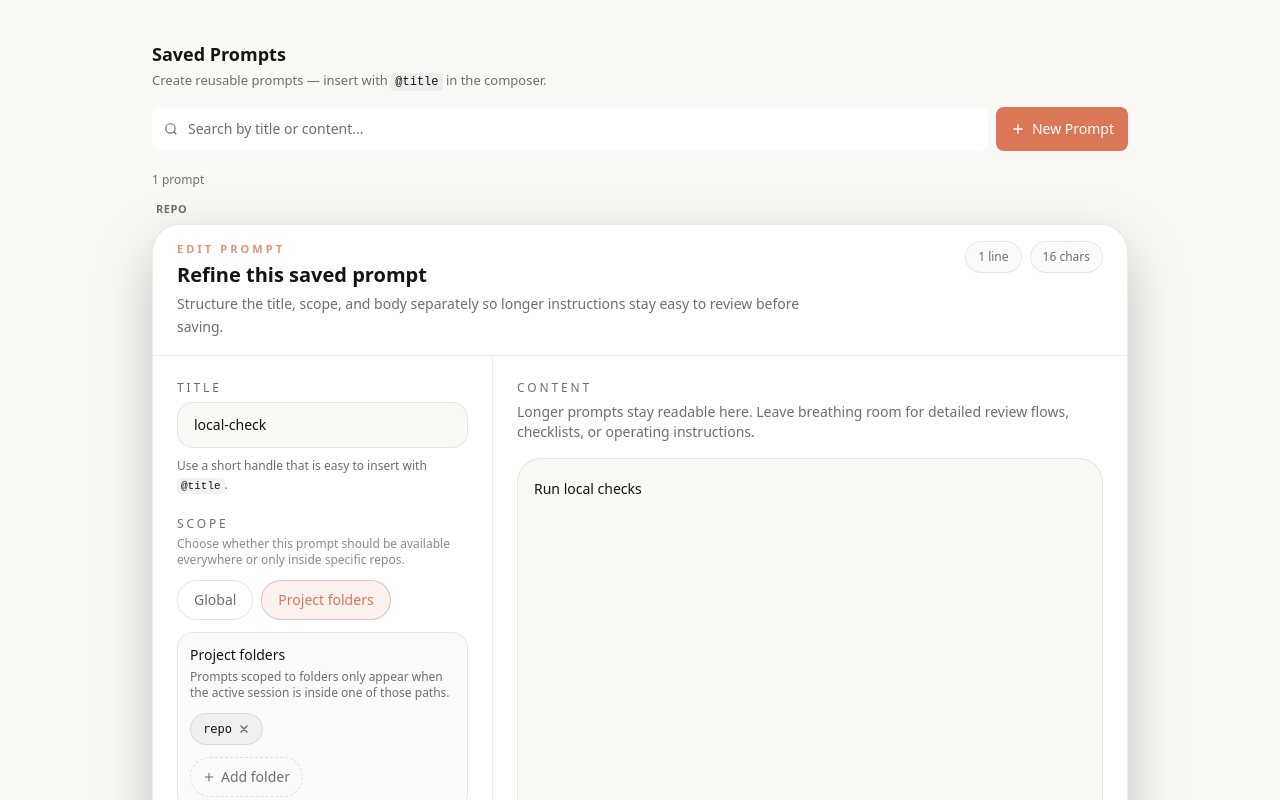
Test case: PromptsPage › shows validation feedback while editing when project scope has no folders
The width and height of the screenshot is (1280, 800).
Earlier steps of the test are not shown.
What coordinates should you click on to do the following:
click the button named "Remove folder /repo"
I would click on:
 (244, 729)
Its box is [238,723,250,735].
(page scrolled)
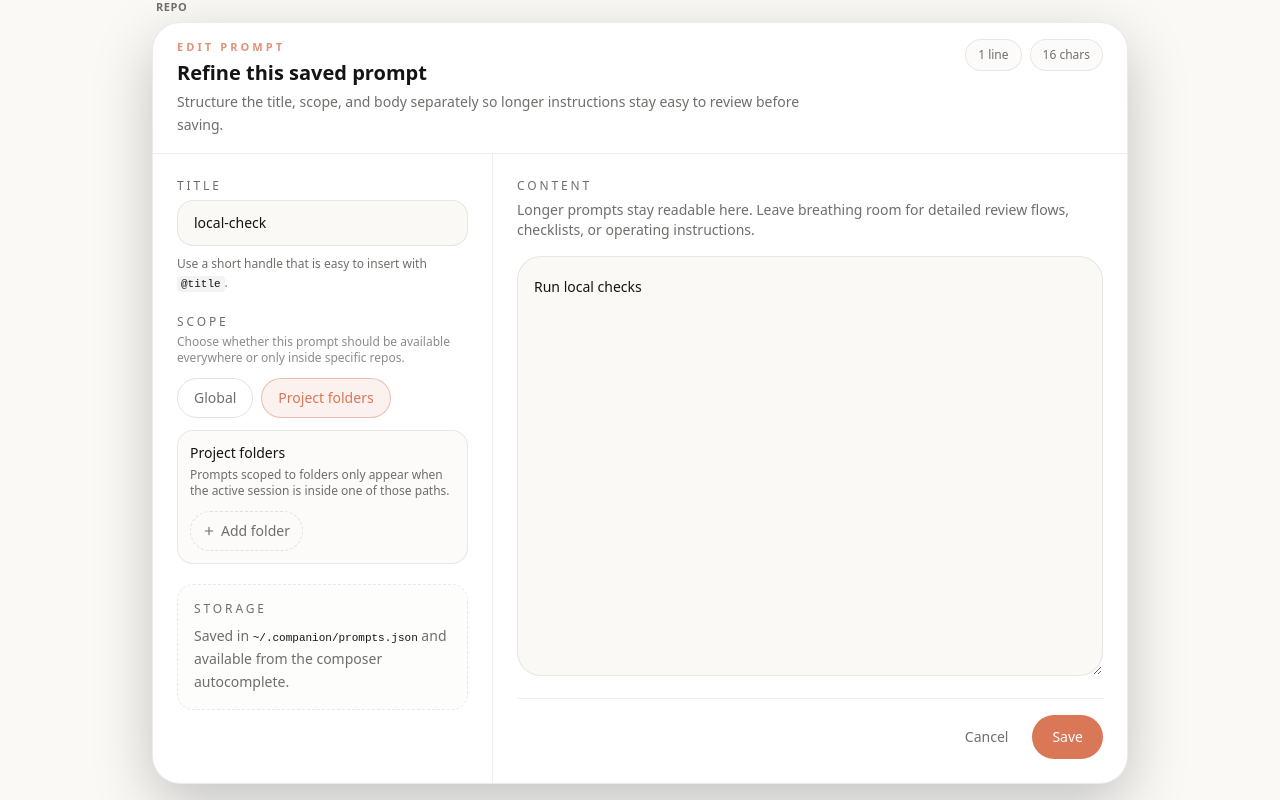
What coordinates should you click on to do the following:
click the button "Save"
I would click on:
 (1068, 737)
Its box is [1032,715,1103,759].
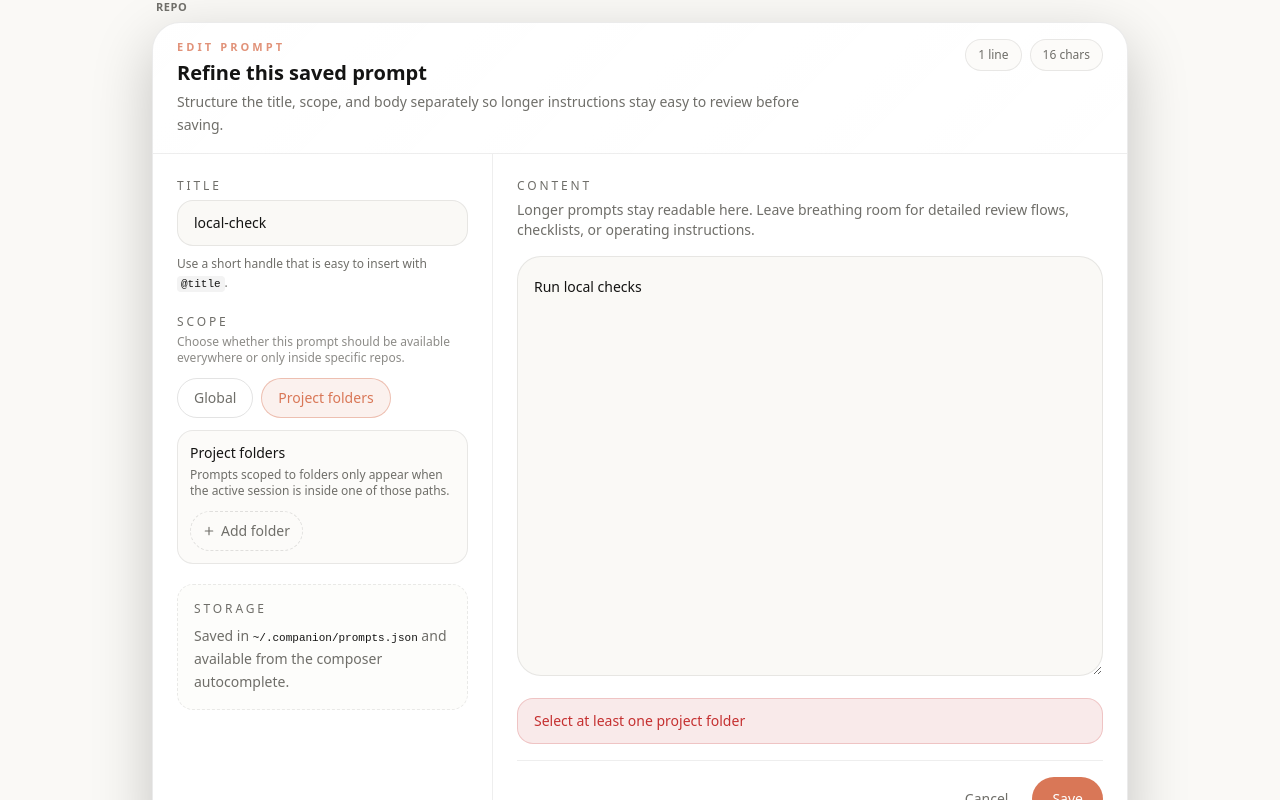
Check: the text "Select at least one project folder" is shown, box [517,698,1103,744]
